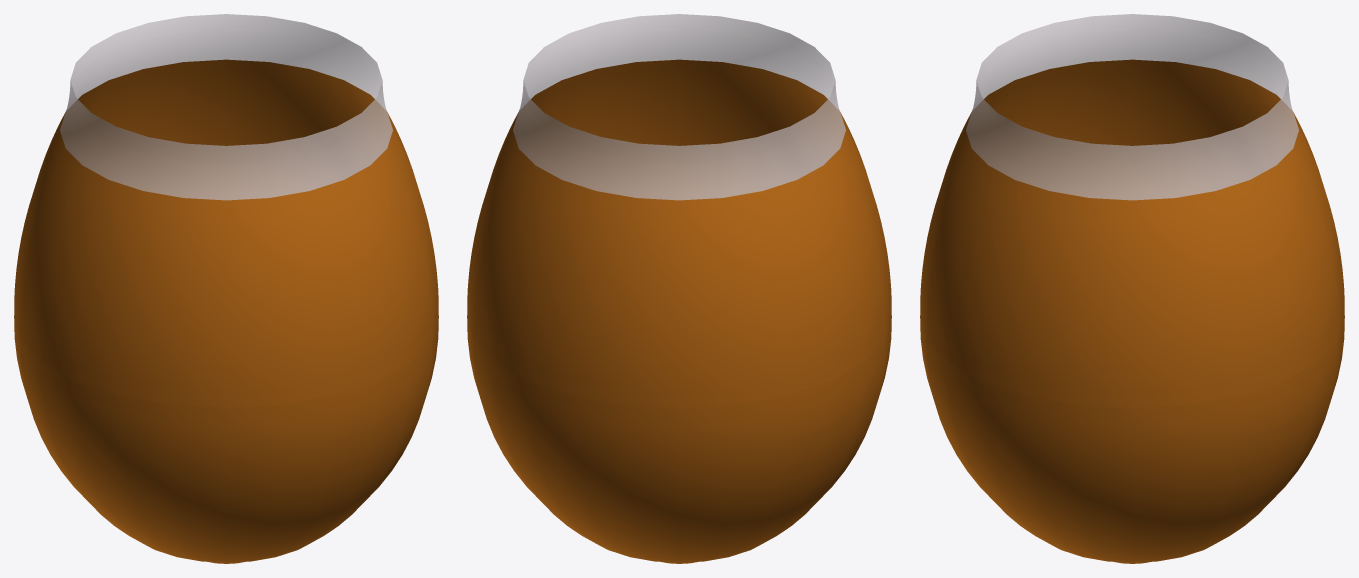
Rendered from beer_content4.obj.
3 renders of one model, left to right at view 1: azimuth 30°, elevation 25°; view 2: azimuth 150°, elevation 25°; view 3: azimuth 270°, elevation 25°, orthographic.
Parts seen in each view (by area): view 1: Mesh1 G_13oz_Libbey_Belgian_Snifter1 Model; view 2: Mesh1 G_13oz_Libbey_Belgian_Snifter1 Model; view 3: Mesh1 G_13oz_Libbey_Belgian_Snifter1 Model.
Part boxes in pixels (x1=…): Mesh1 G_13oz_Libbey_Belgian_Snifter1 Model: x1=14, y1=14, x2=438, y2=563; Mesh1 G_13oz_Libbey_Belgian_Snifter1 Model: x1=467, y1=14, x2=891, y2=563; Mesh1 G_13oz_Libbey_Belgian_Snifter1 Model: x1=920, y1=14, x2=1344, y2=563.
Size of the model in its own units: 2.78 by 3.43 by 2.78.
